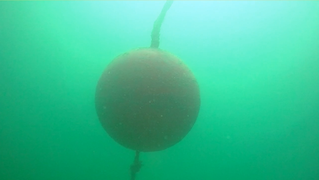bubble: (226, 134, 232, 140)
buoy: (93, 46, 201, 152)
